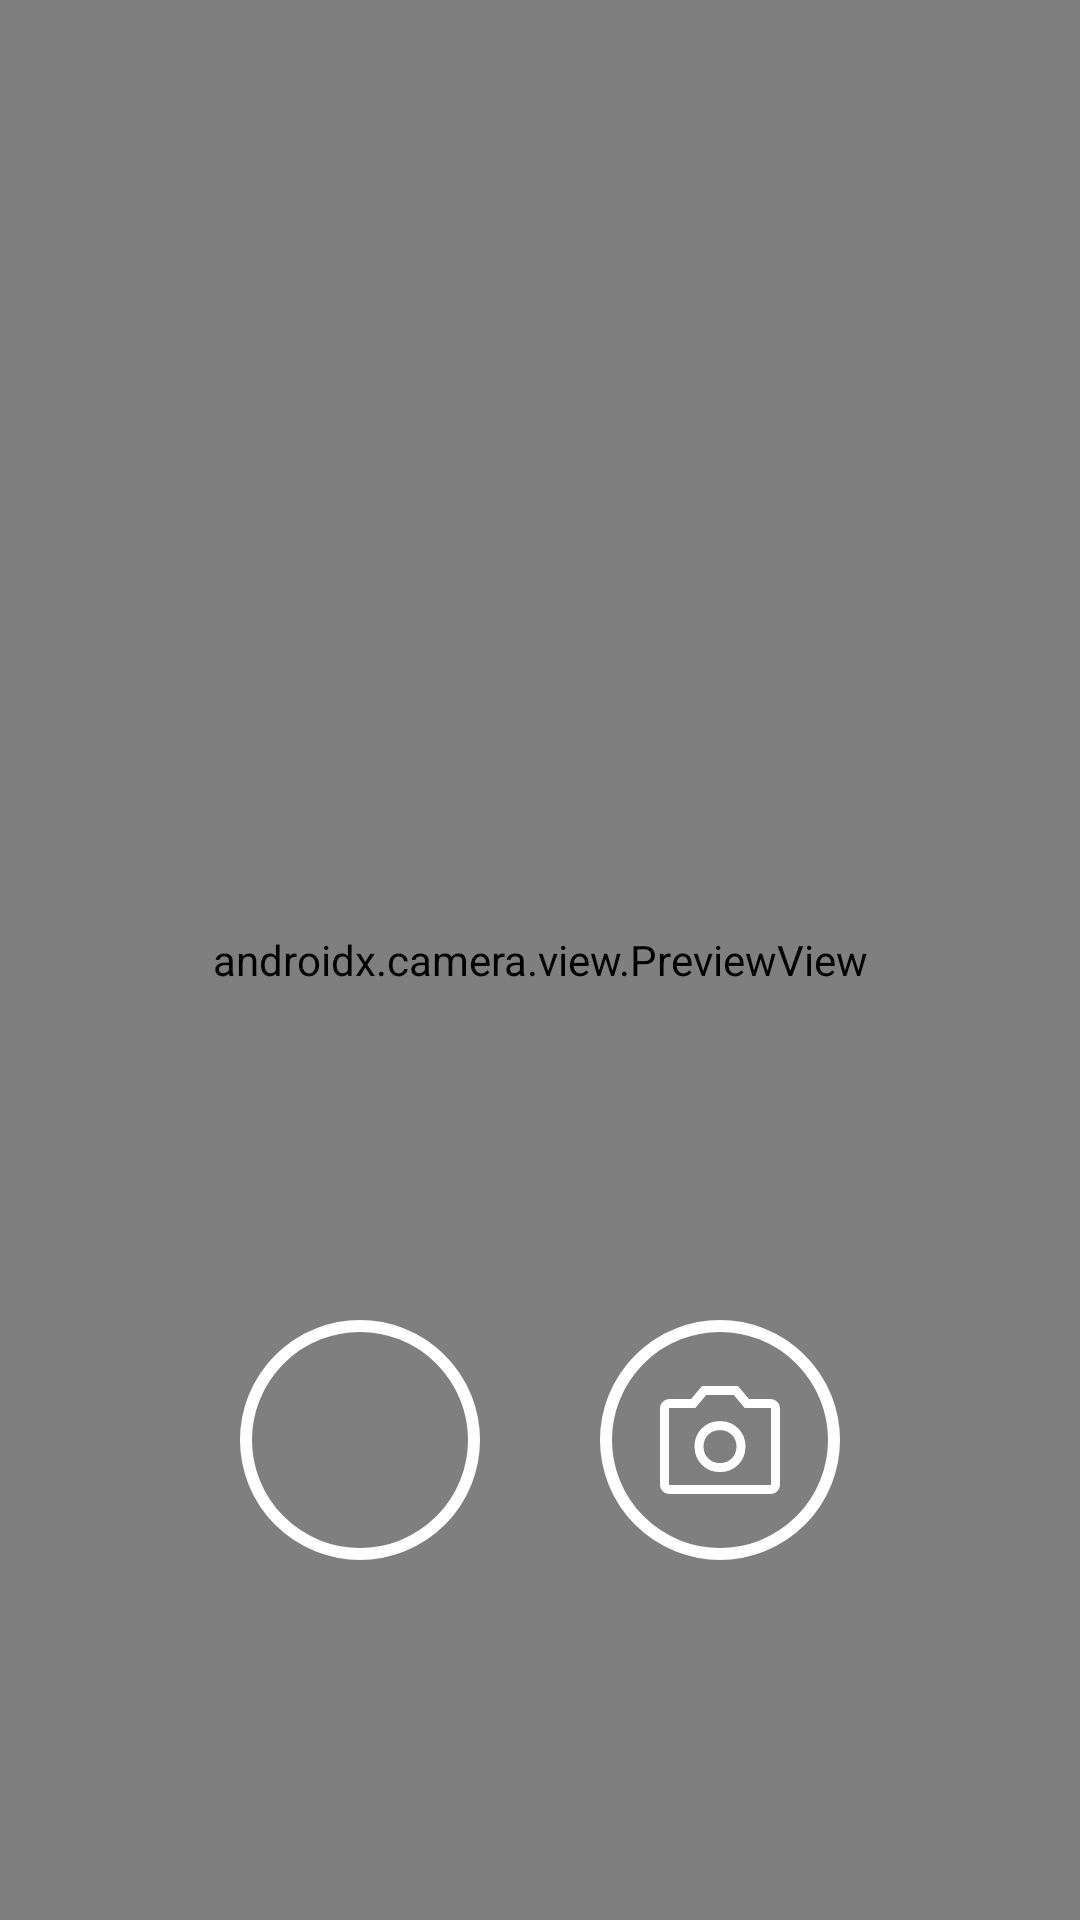

Where icons sit on this 1080x1920 app screen, as bbox(x1, y1, x2, y2):
photo: bbox(660, 1386, 780, 1494)
